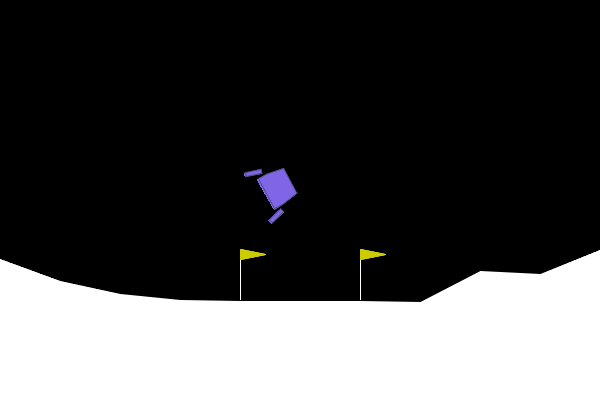lander: (242, 154, 306, 226)
